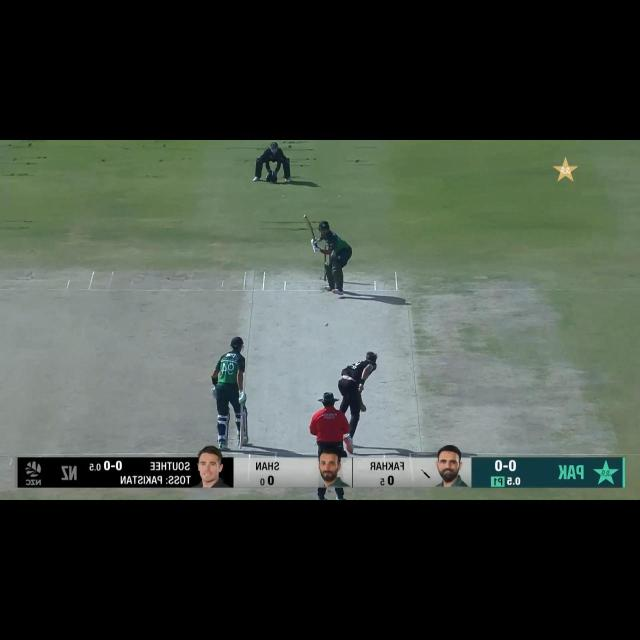bat: (302, 214, 316, 240), (237, 412, 246, 450)
toe: (236, 441, 245, 451), (302, 214, 308, 222)
